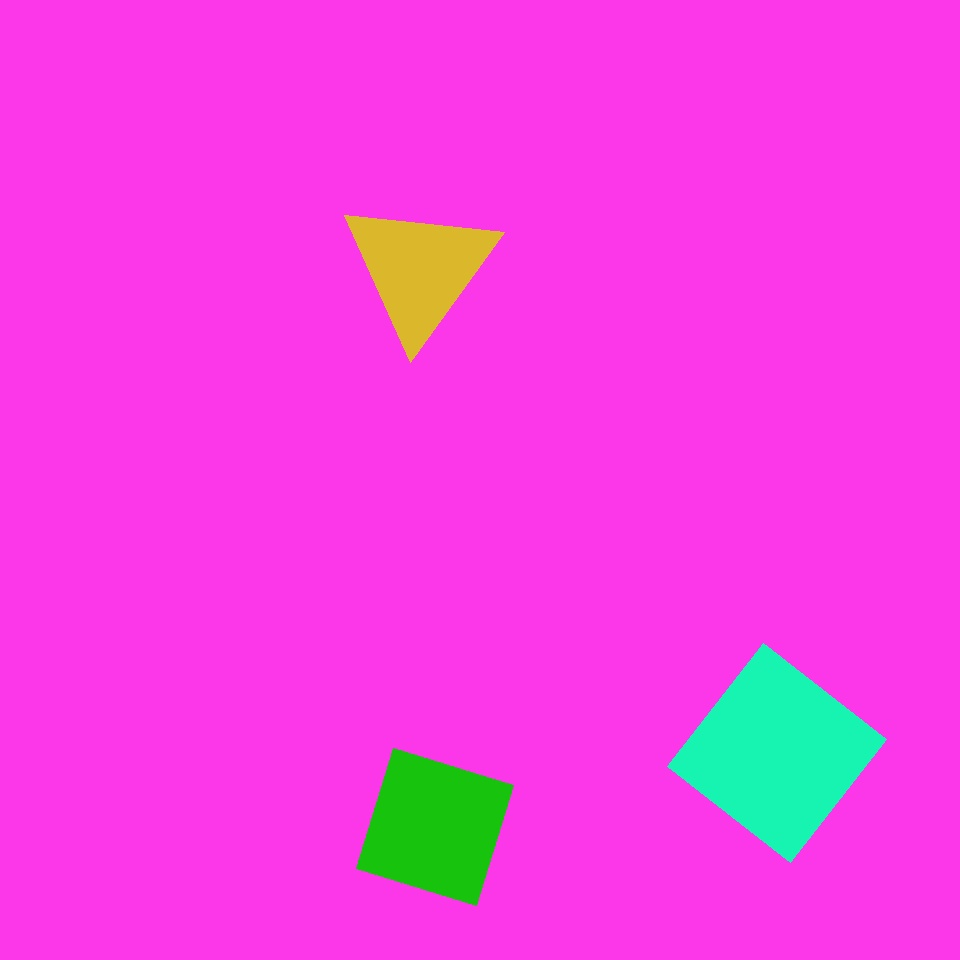circle: (413, 178, 724, 475), (340, 196, 500, 344)
square: (124, 700, 345, 921), (668, 644, 886, 862), (356, 748, 514, 906)
triangle: (20, 427, 276, 683)
